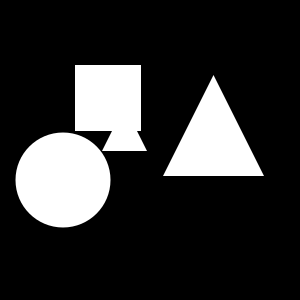circle: (75, 65, 141, 131)
rectangle: (16, 132, 110, 228)
triangle: (163, 75, 264, 176), (102, 106, 147, 151)
